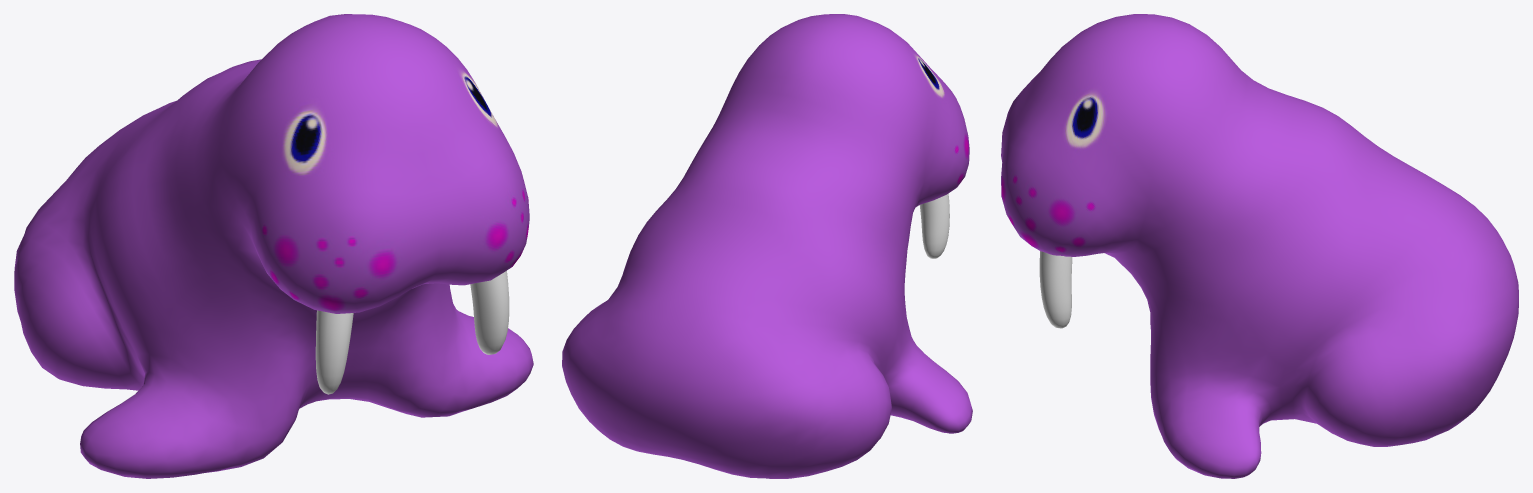
Rendered from Seal.fbx.
The picture shows the model from 3 angles, left to right: view 1: azimuth 30°, elevation 25°; view 2: azimuth 150°, elevation 25°; view 3: azimuth 270°, elevation 25°; orthographic projection. The views are drawn at different scales.
Visible parts, largest first — view 1: Group57339, Box009, Box008; view 2: Group57339, Box008; view 3: Group57339, Box009.
Part boxes in pixels (x1,y1,x2,y2): Group57339: [14, 14, 533, 478]; Box009: [470, 270, 509, 354]; Box008: [315, 310, 353, 394]; Group57339: [562, 14, 972, 478]; Box008: [919, 193, 949, 258]; Group57339: [1001, 14, 1518, 478]; Box009: [1039, 251, 1072, 328].
Bounding box in the file's own units: 862 × 809 × 1023.
2 materials, 1 textured.
